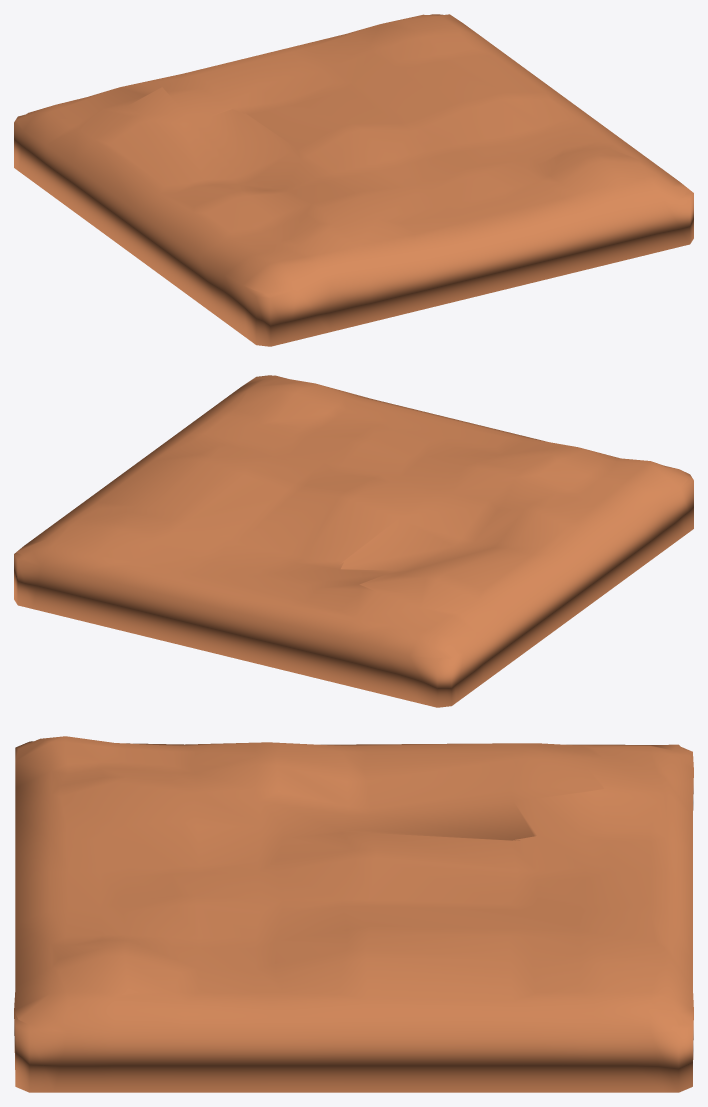
The model's file is Block 2.fbx.
3 views of the same model, one above another, from view 1: azimuth 30°, elevation 25°; view 2: azimuth 150°, elevation 25°; view 3: azimuth 270°, elevation 25° (orthographic). The views are drawn at different scales.
Parts seen in each view (by area): view 1: Cube.063; view 2: Cube.063; view 3: Cube.063.
Part boxes in pixels (bbox=[...]): Cube.063: bbox=[14, 14, 693, 346]; Cube.063: bbox=[14, 375, 693, 707]; Cube.063: bbox=[14, 736, 693, 1092].
Size of the model in its own units: 332 by 53.31 by 331.
